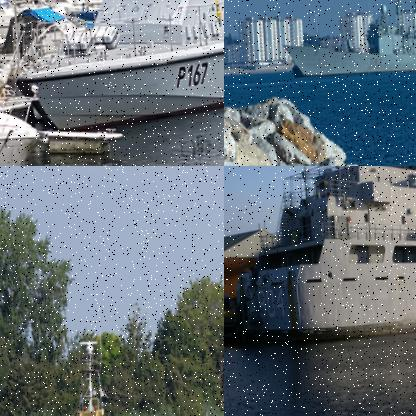Fishing Boat: (10, 329, 223, 415)
Military Ship: (224, 166, 415, 347), (278, 0, 415, 78)
Patrol Boat: (1, 0, 223, 135)
